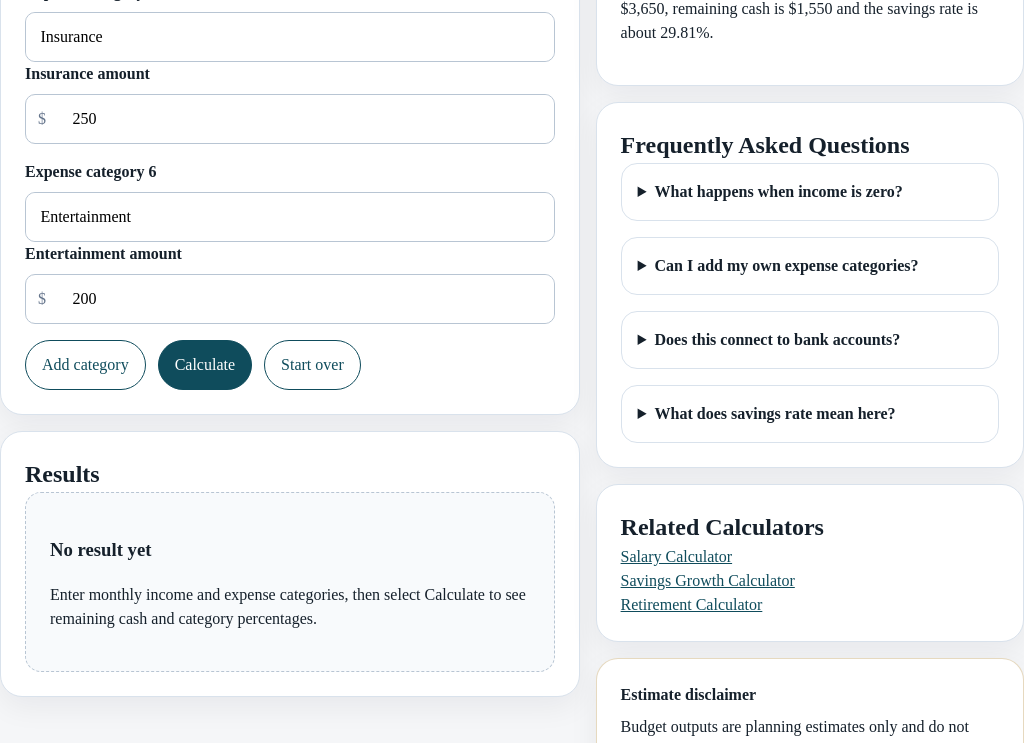
Test: calculator layout migration › budget calculator shows an empty state, calculates, and resets
(page scrolled)
Expected: the heading "No result yet" is shown, left=50, top=539, right=152, bottom=560
Click the button "Calculate" at (205, 365), box left=158, top=340, right=252, bottom=390
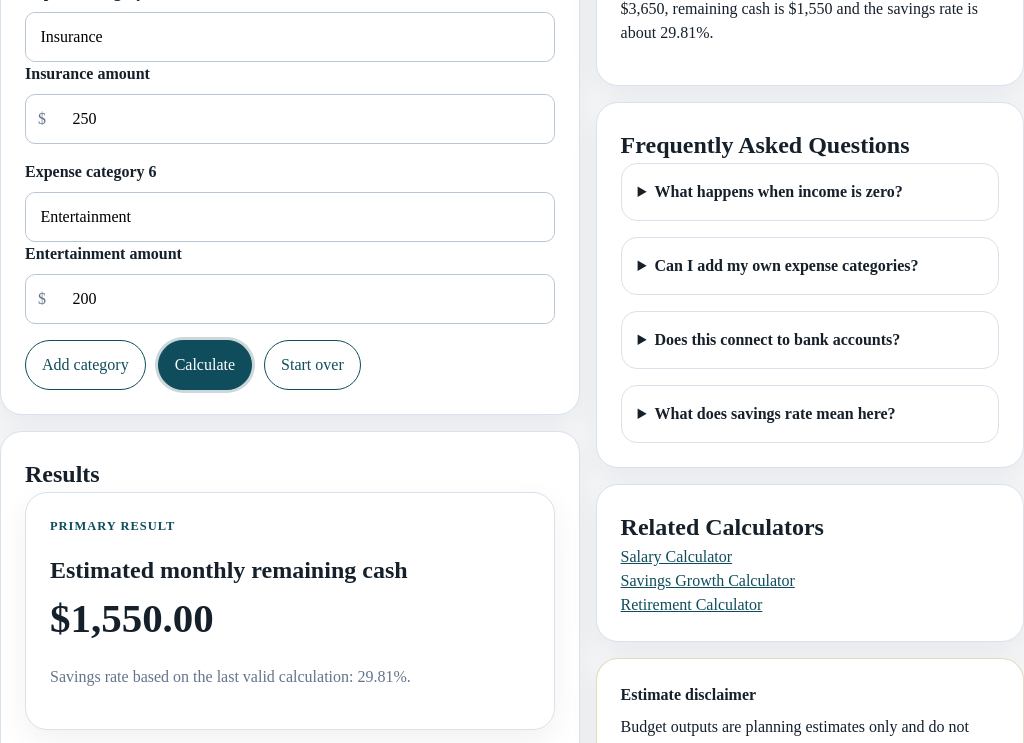
Now the heading "Estimated monthly remaining cash" is shown, box left=50, top=557, right=408, bottom=583
Click the button "Start over" at (312, 365), box left=264, top=340, right=361, bottom=390
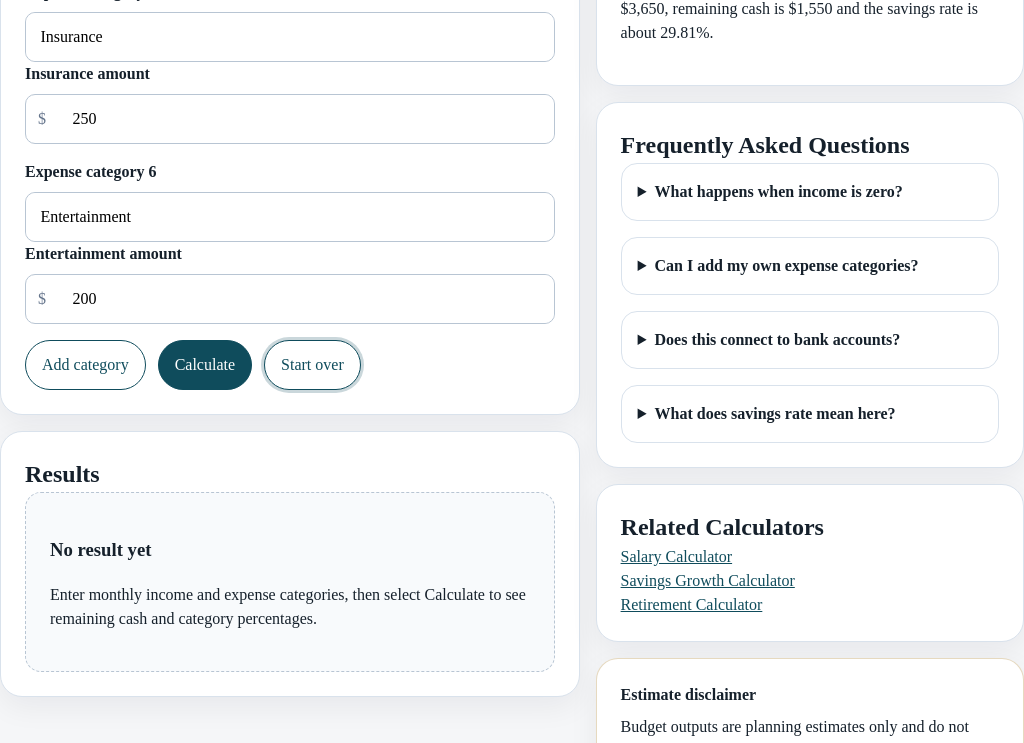
Now the heading "No result yet" is shown, box left=50, top=539, right=152, bottom=560
